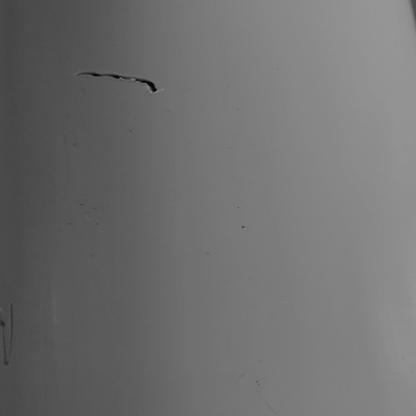fengxi: (74, 68, 159, 93)
